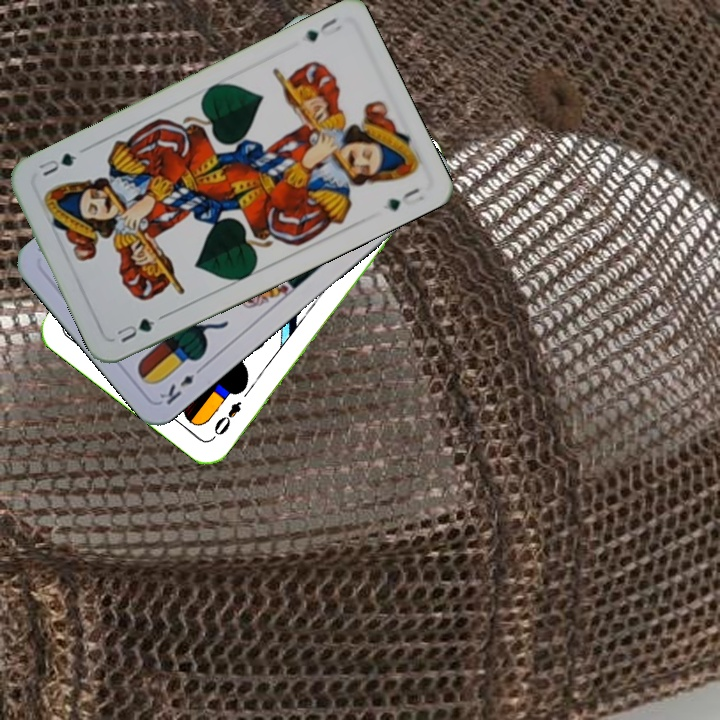EK: (155, 361, 207, 408)
EO: (208, 397, 244, 442)
GU: (112, 314, 158, 346), (300, 14, 344, 45)
